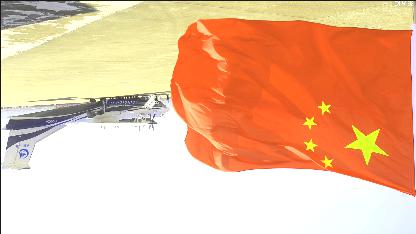AG600: (0, 94, 170, 168)
